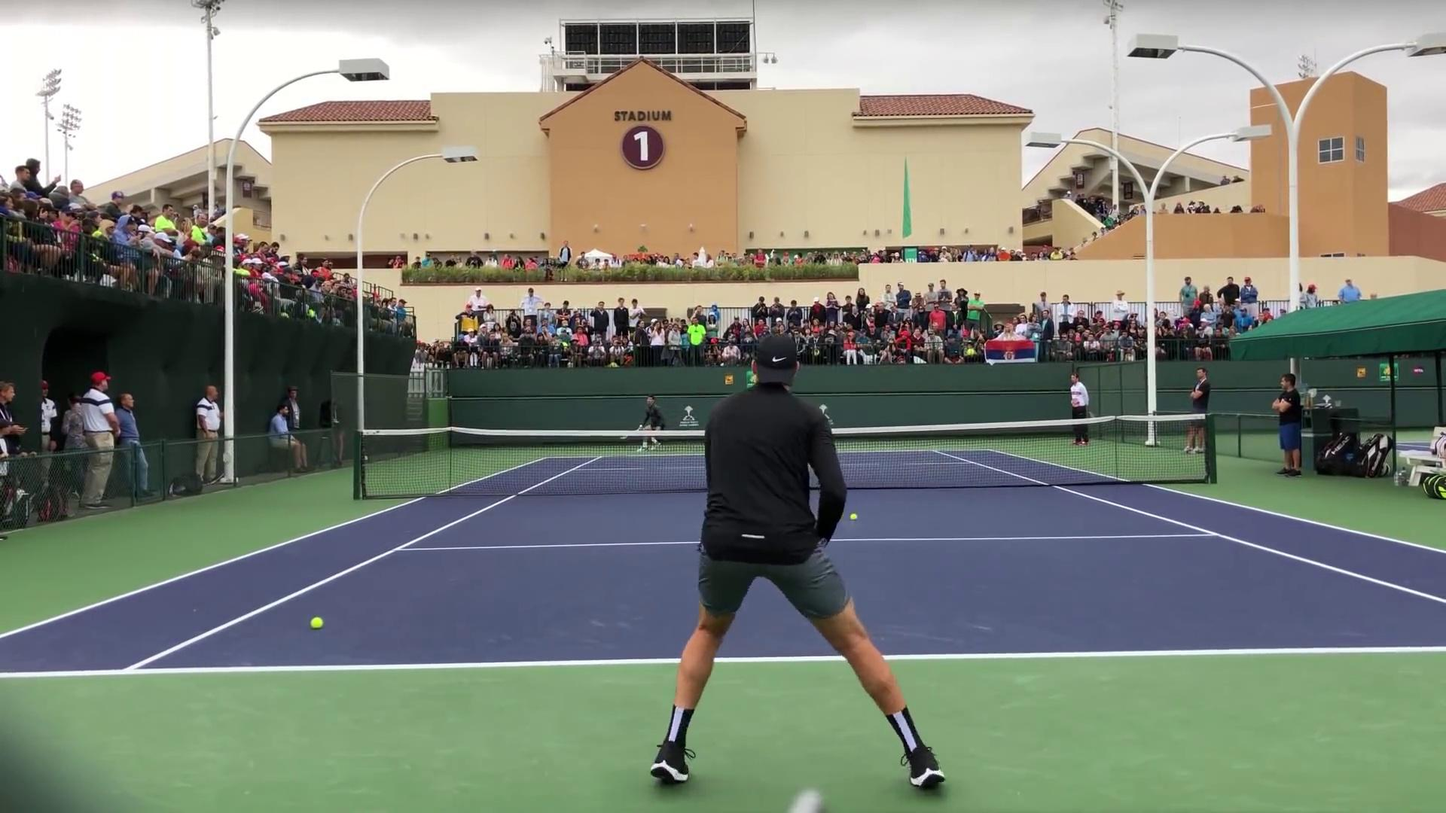ball: (310, 617, 323, 629), (849, 512, 858, 519)
